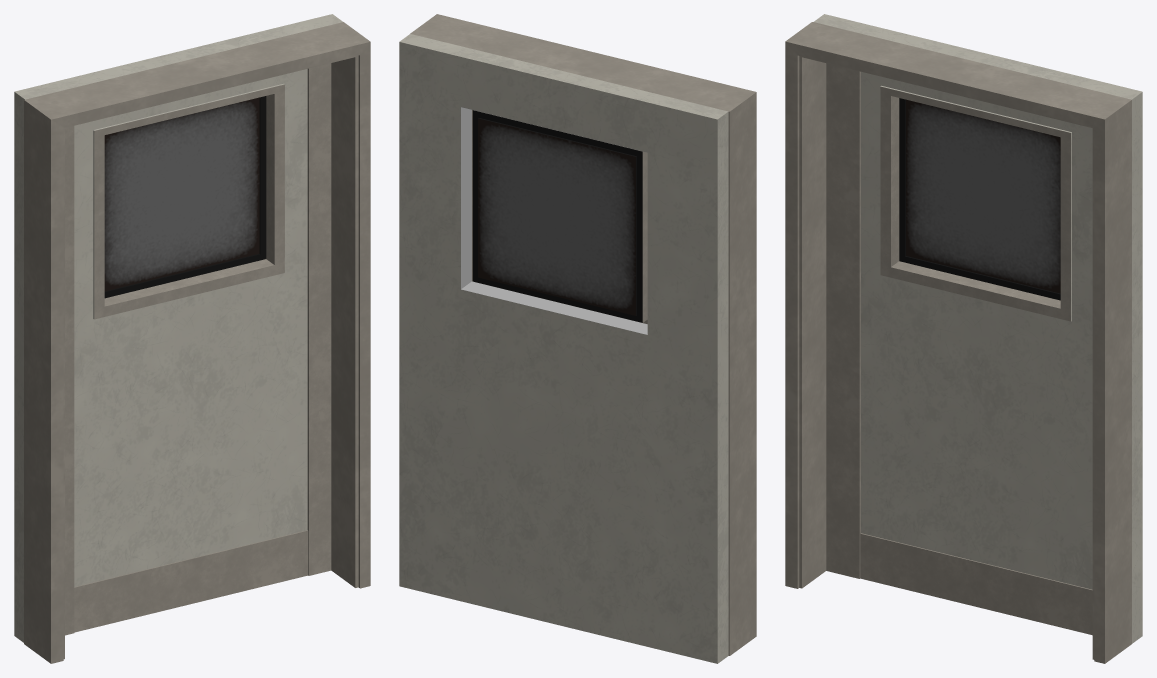
Rendered from Door.fbx.
3 views of the same model, side by side, from view 1: azimuth 30°, elevation 25°; view 2: azimuth 150°, elevation 25°; view 3: azimuth 330°, elevation 25° (orthographic).
Parts seen in each view (by area): view 1: Door; view 2: Door; view 3: Door.
Boxes of the visible parts, left/top/right/bottom form: Door: left=14, top=14, right=370, bottom=663; Door: left=399, top=14, right=756, bottom=663; Door: left=785, top=14, right=1142, bottom=663.
Size of the model in its own units: 151 by 246 by 31.07.
